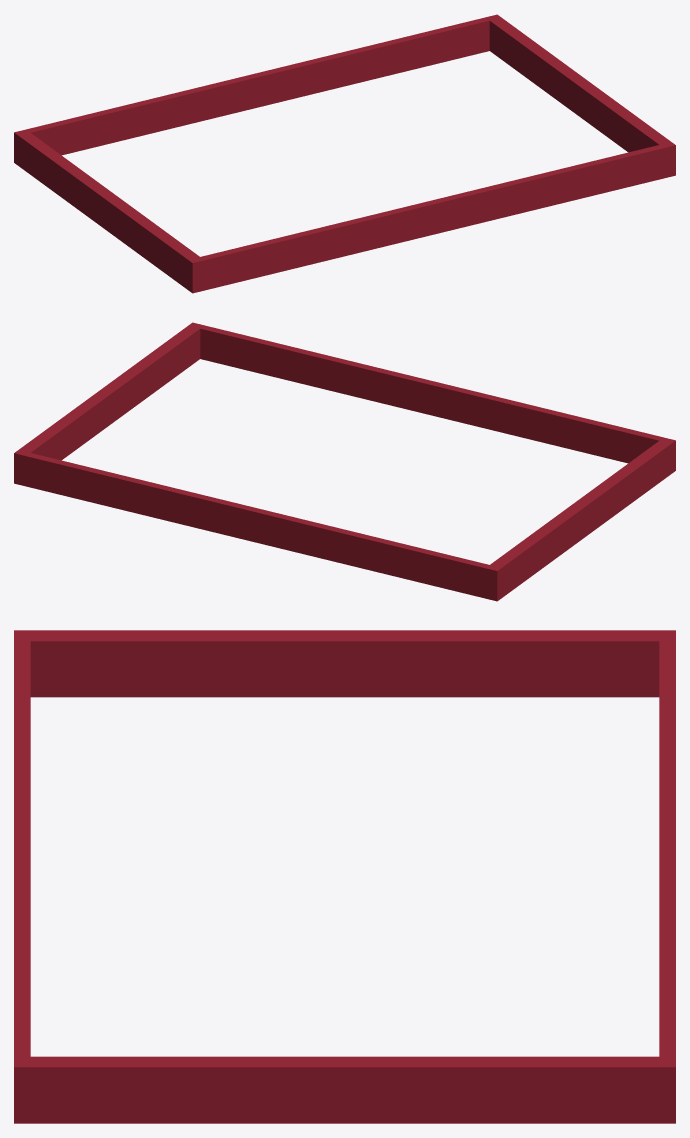
File: OutterWalls.obj
3 views of the same model, one above another, from view 1: azimuth 30°, elevation 25°; view 2: azimuth 150°, elevation 25°; view 3: azimuth 270°, elevation 25° (orthographic). The views are drawn at different scales.
Visible parts, largest first — view 1: OuterWalls_Plane; view 2: OuterWalls_Plane; view 3: OuterWalls_Plane.
Part boxes in pixels (left/top/right/bottom): OuterWalls_Plane: left=14, top=14, right=675, bottom=293; OuterWalls_Plane: left=14, top=322, right=675, bottom=601; OuterWalls_Plane: left=14, top=630, right=675, bottom=1123.
Bounding box in the file's own units: 25 × 1.5 × 16.
